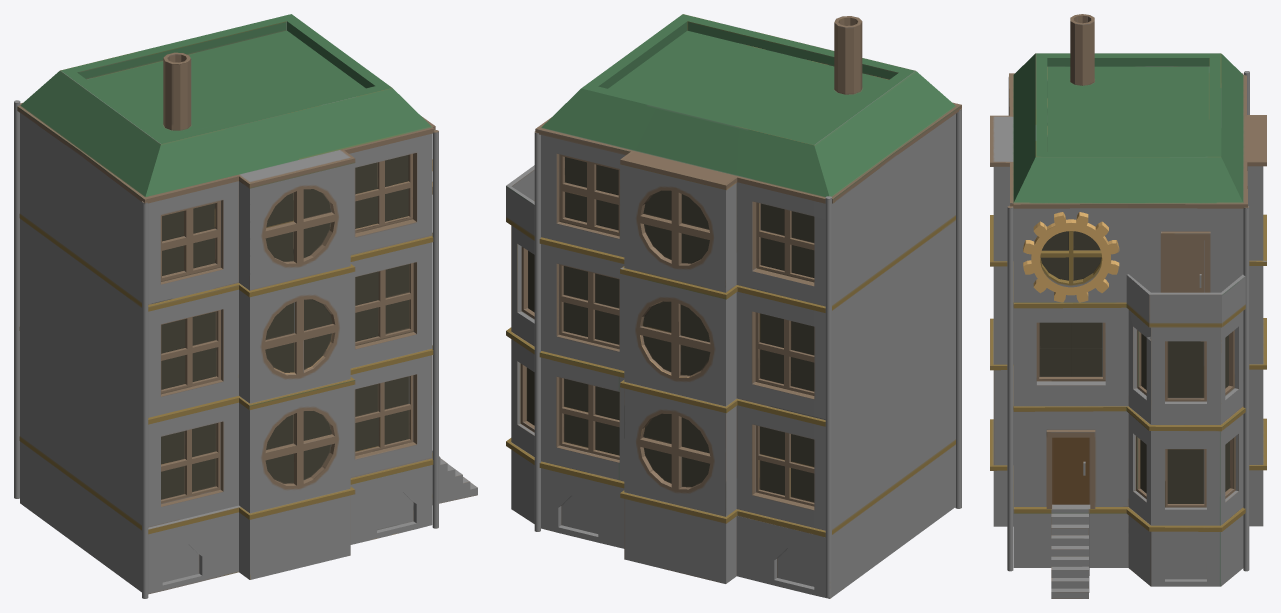
Rendered from rich mantion.fbx.
3 views of the same model, side by side, from view 1: azimuth 30°, elevation 25°; view 2: azimuth 150°, elevation 25°; view 3: azimuth 270°, elevation 25° (orthographic). The views are drawn at different scales.
Visible parts, largest first — view 1: Cube; view 2: Cube; view 3: Cube.
Part boxes in pixels (<box>): Cube: <box>14,14,477,598</box>; Cube: <box>506,14,961,598</box>; Cube: <box>990,14,1266,598</box>.
Bounding box in the file's own units: 10701 × 14128 × 7829.
Materials: 1 (1 with a texture image).
